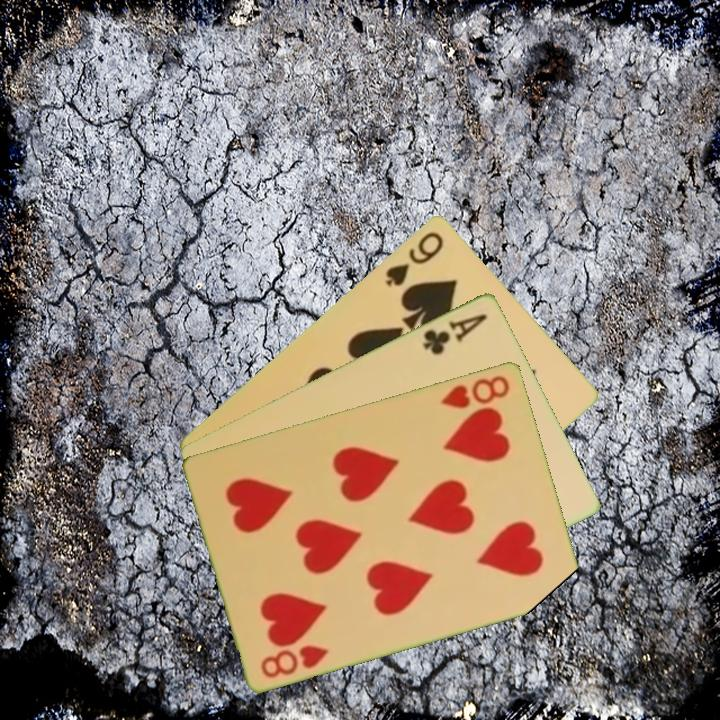8h: (257, 640, 332, 681), (437, 371, 513, 411)
9s: (381, 227, 447, 289)
Ac: (419, 309, 490, 358)
